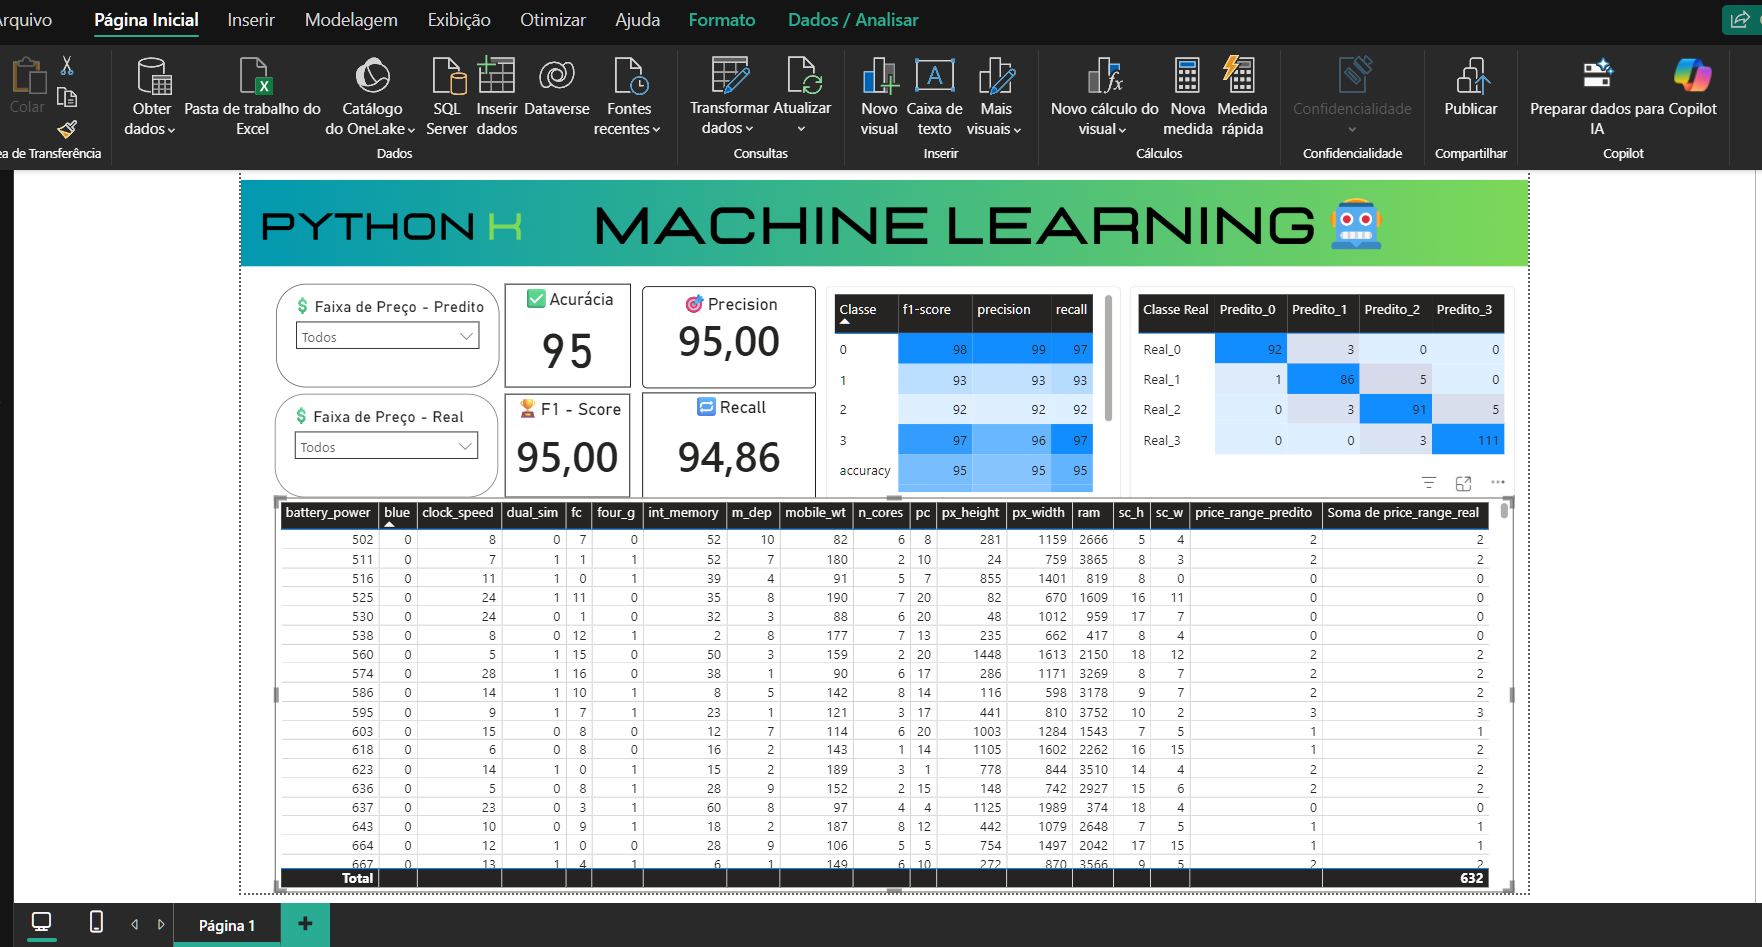

This screenshot's page, from the dashboard's own definition file:
{"tool":"powerbi","page":{"name":"Página 1","canvas":[1280,720],"ordinal":0},"visuals":[{"type":"tableEx","fields":{"Values":["df_resultado.battery_power","df_resultado.blue","df_resultado.clock_speed","df_resultado.dual_sim","df_resultado.fc","df_resultado.four_g","df_resultado.int_memory","df_resultado.m_dep","df_resultado.mobile_wt","df_resultado.n_cores","df_resultado.pc","df_resultado.px_height"]},"box":[33.1,325.8,1233.3,392.9],"z":0},{"type":"slicer","title":"💲Faixa de Preço - Predito","fields":{"Values":["df_resultado.price_range_predito"]},"box":[34.5,113.4,222.2,103.4],"z":1000},{"type":"slicer","title":"💲Faixa de Preço - Real","fields":{"Values":["df_resultado.price_range_real"]},"box":[33.6,223.1,222.2,103.4],"z":2000},{"type":"cardVisual","title":"🎯Precision","fields":{"Data":["Avg(df_classification_repost.precision)"]},"box":[399.9,116.1,173.2,101.6],"z":3000},{"type":"tableEx","fields":{"Values":["df_classification_repost.Classe","df_classification_repost.f1-score","df_classification_repost.precision","df_classification_repost.recall"]},"box":[582.2,115.2,293.8,213.1],"z":4000},{"type":"tableEx","fields":{"Values":["df_matriz_confusao.Classe Real","df_matriz_confusao.Predito_0","df_matriz_confusao.Predito_1","df_matriz_confusao.Predito_2","df_matriz_confusao.Predito_3"]},"box":[884.1,116.1,383.6,213.1],"z":5000},{"type":"card","title":"🏆F1 - Score","fields":{"Values":["Avg(df_classification_repost.f1-score)"]},"box":[263,223.1,125.1,103.4],"z":6000},{"type":"card","title":"🔁Recall","fields":{"Values":["Avg(df_classification_repost.recall)"]},"box":[399.9,221.3,173.2,106.1],"z":7000},{"type":"image","box":[0,7.3,1280.4,90.7],"z":8000},{"type":"card","title":"✅Acurácia","fields":{"Values":["Sum(df_classification_repost.f1-score)"]},"box":[262.6,113.8,125.5,103.1],"z":9000}]}

Visuals, with their boxes on the page's 1280x720 design canvas (x1, y1, x2, y2). These are canvas units, not pixel positions in the 1762x947 screenshot, which may show the page scaled, cropped or inside an application window:
tableEx - df_resultado.battery_power x df_resultado.blue: Rect(33, 326, 1266, 719)
"💲Faixa de Preço - Predito" slicer: Rect(34, 113, 257, 217)
"💲Faixa de Preço - Real" slicer: Rect(34, 223, 256, 326)
"🎯Precision" cardVisual: Rect(400, 116, 573, 218)
tableEx - df_classification_repost.Classe x df_classification_repost.f1-score: Rect(582, 115, 876, 328)
tableEx - df_matriz_confusao.Classe Real x df_matriz_confusao.Predito_0: Rect(884, 116, 1268, 329)
"🏆F1 - Score" card: Rect(263, 223, 388, 326)
"🔁Recall" card: Rect(400, 221, 573, 327)
image: Rect(0, 7, 1280, 98)
"✅Acurácia" card: Rect(263, 114, 388, 217)
